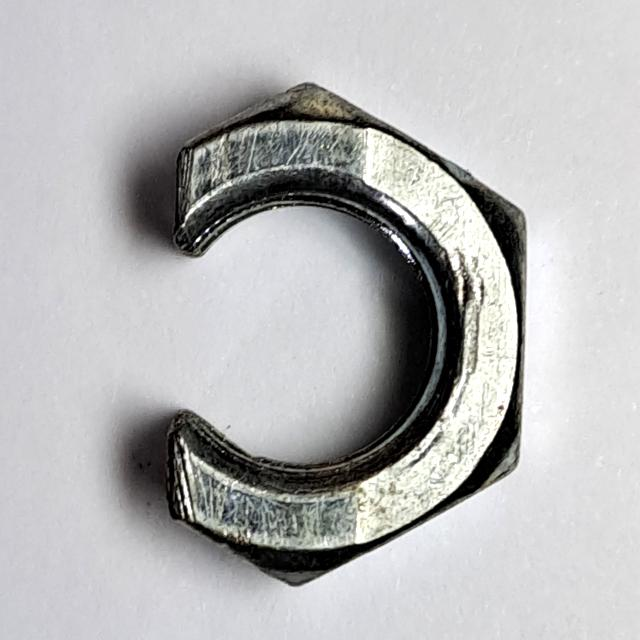Fracture: (149, 72, 541, 595)
